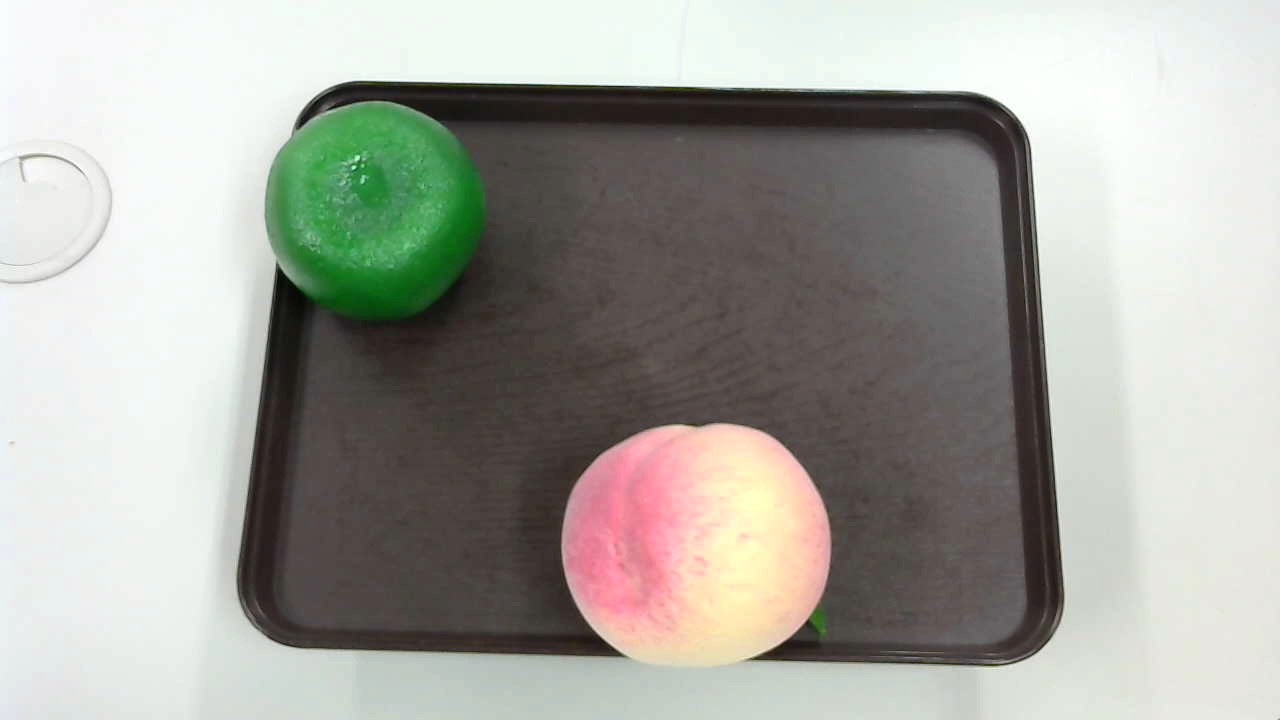green orange: (258, 98, 491, 327)
peach: (552, 418, 852, 681)
